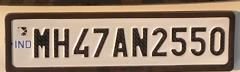0: (207, 26, 225, 57)
2: (149, 25, 170, 58)
4: (72, 27, 92, 59)
5: (188, 24, 207, 57), (170, 26, 188, 56)
7: (92, 26, 110, 59)
A: (111, 25, 129, 60)
H: (53, 27, 72, 59)
M: (32, 26, 51, 59)
N: (131, 26, 150, 59)
